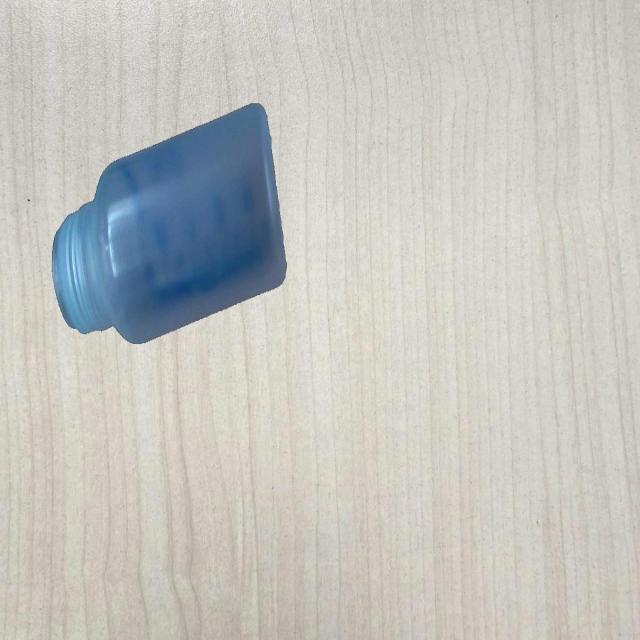bottle: (49, 92, 290, 358)
